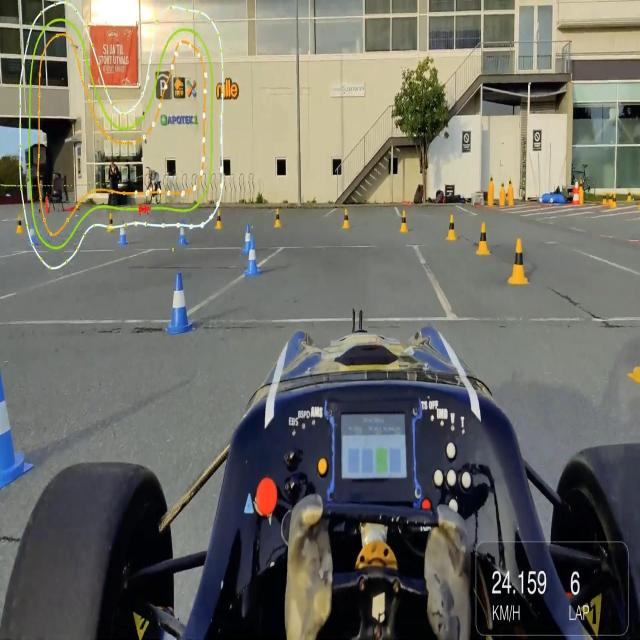blue_cone: (0, 369, 36, 491), (163, 269, 197, 338), (242, 237, 262, 280), (241, 220, 253, 256), (116, 218, 129, 249), (177, 218, 189, 250), (27, 220, 39, 248)
large_orange_cone: (571, 177, 580, 208)
yellow_cone: (506, 237, 530, 288), (625, 331, 640, 388), (476, 218, 492, 260), (444, 214, 458, 244), (340, 205, 352, 231), (398, 208, 409, 234), (272, 206, 282, 229), (214, 208, 224, 230), (14, 214, 24, 235), (106, 210, 115, 233), (608, 191, 614, 206), (612, 192, 617, 209), (626, 190, 632, 203), (488, 173, 494, 184), (603, 192, 607, 205), (508, 177, 513, 186), (501, 179, 505, 189)
